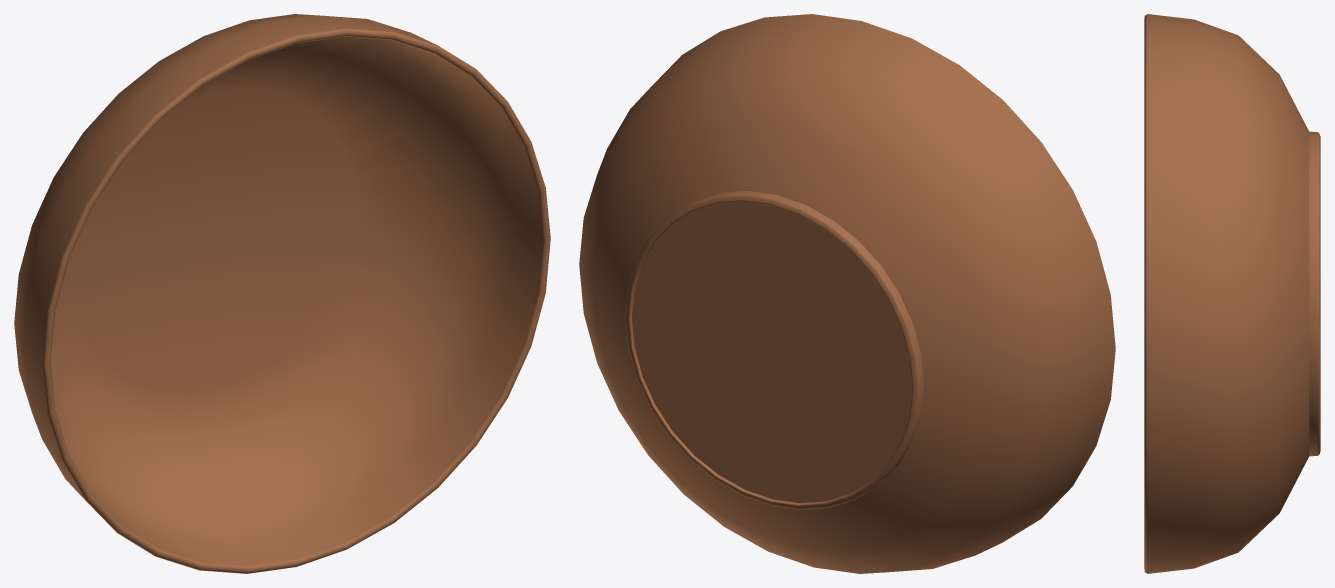
File: MeshBowl_4_0_GeomSubset_0.obj
3 renders of one model, left to right at view 1: azimuth 30°, elevation 25°; view 2: azimuth 150°, elevation 25°; view 3: azimuth 270°, elevation 25°, orthographic. The views are drawn at different scales.
Visible parts, largest first — view 1: MeshBowl_4_0_GeomSubset_0; view 2: MeshBowl_4_0_GeomSubset_0; view 3: MeshBowl_4_0_GeomSubset_0.
Part boxes in pixels (box(x1,y1,x2,y2)): MeshBowl_4_0_GeomSubset_0: box(14, 14, 550, 573); MeshBowl_4_0_GeomSubset_0: box(579, 14, 1115, 573); MeshBowl_4_0_GeomSubset_0: box(1144, 14, 1320, 573).
Size of the model in its own units: 0.1943 by 0.1943 by 0.0611.
